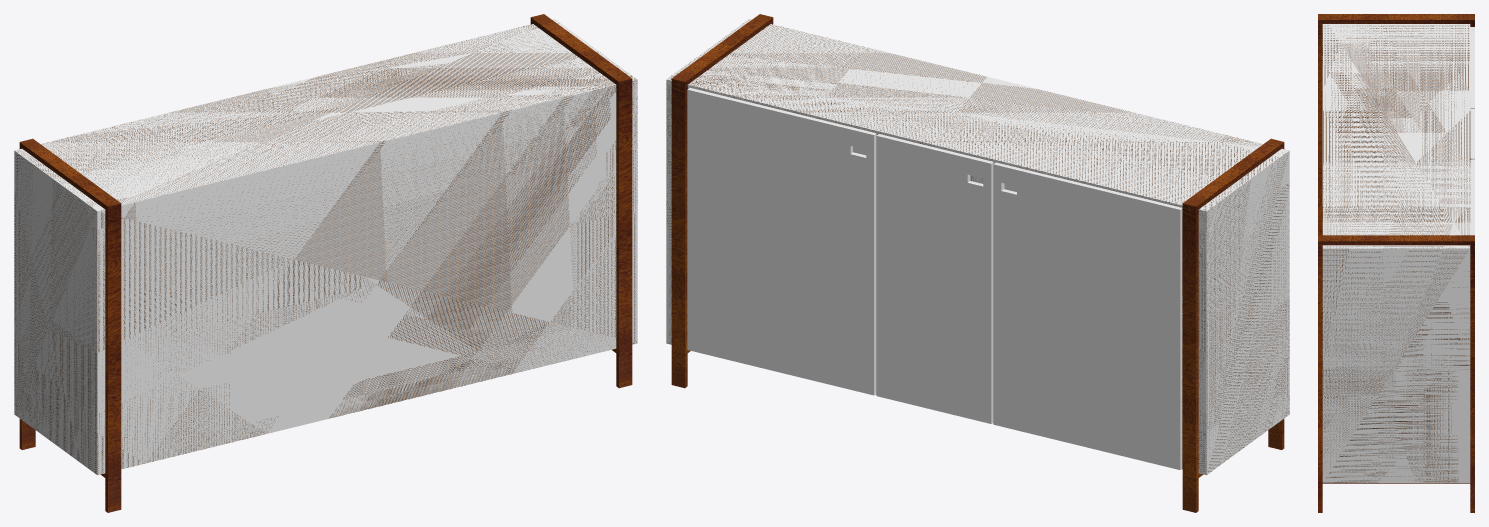
3 views of the same model, side by side, from view 1: azimuth 30°, elevation 25°; view 2: azimuth 150°, elevation 25°; view 3: azimuth 270°, elevation 25° (orthographic). The views are drawn at different scales.
Visible parts, largest first — view 1: mesh7_mesh7-geometry, mesh8_mesh8-geometry; view 2: mesh7_mesh7-geometry, mesh12_mesh12-geometry, mesh4_mesh4-geometry, mesh9_mesh9-geometry, mesh8_mesh8-geometry; view 3: mesh7_mesh7-geometry, mesh8_mesh8-geometry, mesh4_mesh4-geometry, mesh12_mesh12-geometry, mesh9_mesh9-geometry.
Part boxes in pixels (x1=…): mesh7_mesh7-geometry: x1=14, y1=18, x2=637, y2=475; mesh8_mesh8-geometry: x1=19, y1=14, x2=632, y2=512; mesh7_mesh7-geometry: x1=666, y1=18, x2=1289, y2=475; mesh12_mesh12-geometry: x1=687, y1=87, x2=876, y2=395; mesh4_mesh4-geometry: x1=993, y1=162, x2=1182, y2=469; mesh9_mesh9-geometry: x1=876, y1=133, x2=993, y2=423; mesh8_mesh8-geometry: x1=671, y1=14, x2=1284, y2=512; mesh7_mesh7-geometry: x1=1322, y1=24, x2=1470, y2=482; mesh8_mesh8-geometry: x1=1318, y1=14, x2=1474, y2=512; mesh4_mesh4-geometry: x1=1470, y1=26, x2=1474, y2=108; mesh12_mesh12-geometry: x1=1470, y1=159, x2=1474, y2=235; mesh9_mesh9-geometry: x1=1470, y1=109, x2=1474, y2=159.
Bounding box in the file's own units: 0.8532 × 0.4622 × 0.2417.
